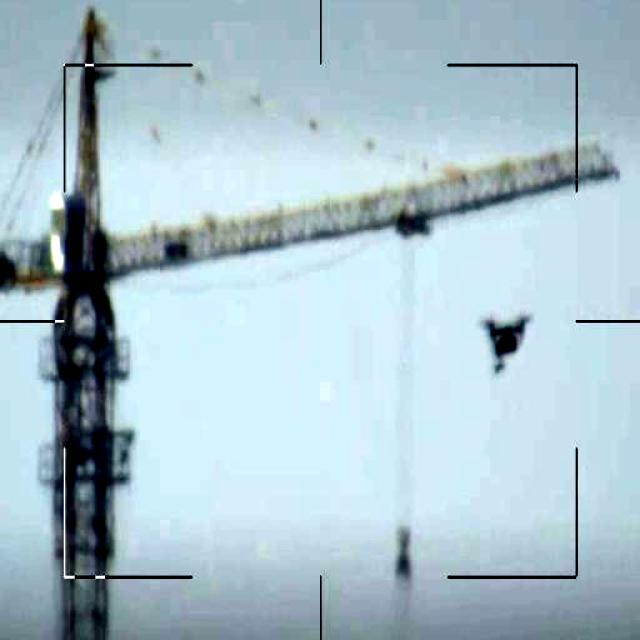bird: (485, 311, 538, 378)
